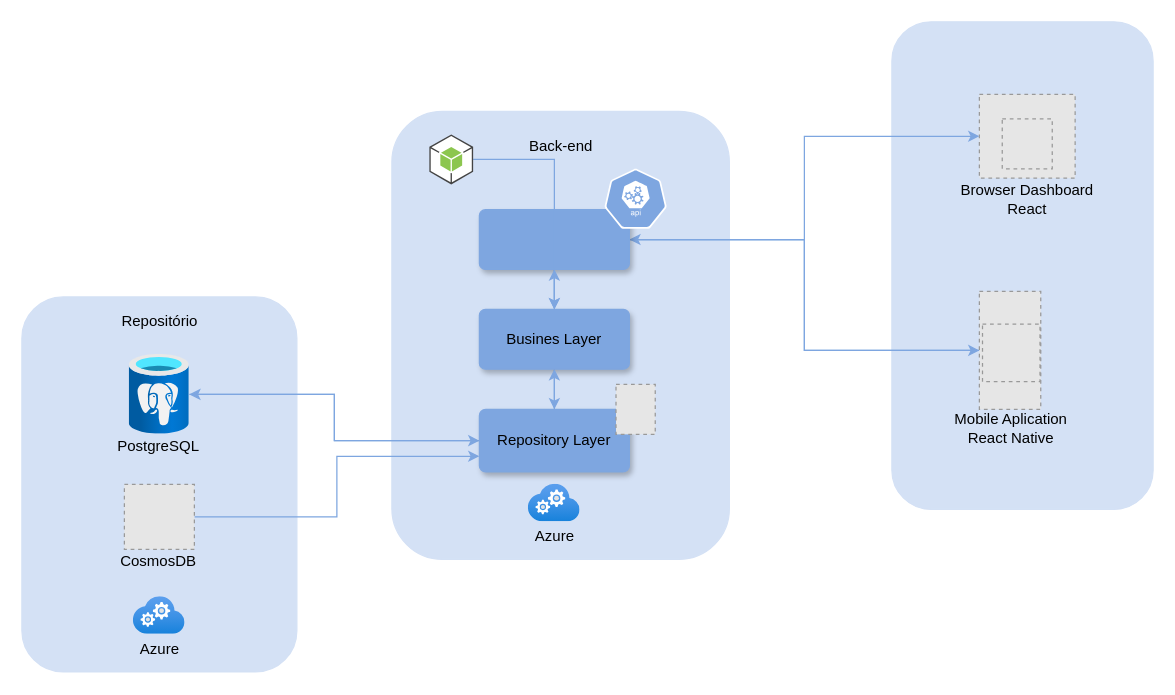
Image size: 1175x695. Some labels were removed from this diagram. Grey dashed boxes stand in for pictures. Each missing label, with the centre of its shape:
API Layer: pixel 555 240
NodeJS: pixel 450 158
